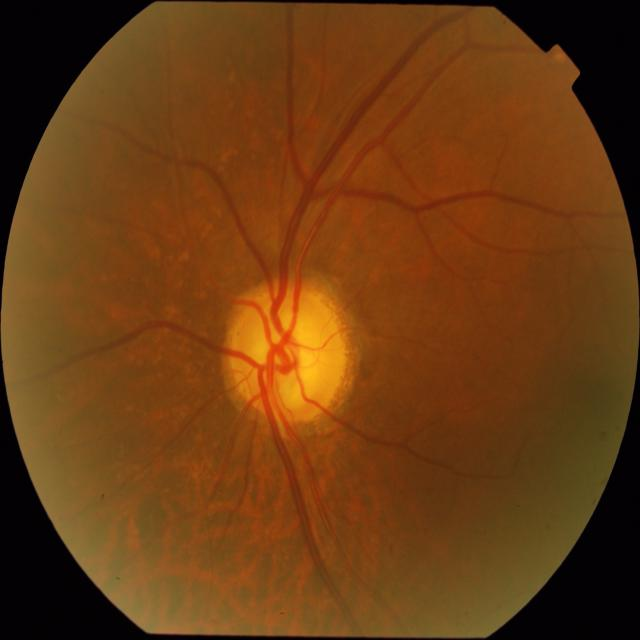OC: (243, 300, 336, 414)
OD: (231, 285, 347, 422)
